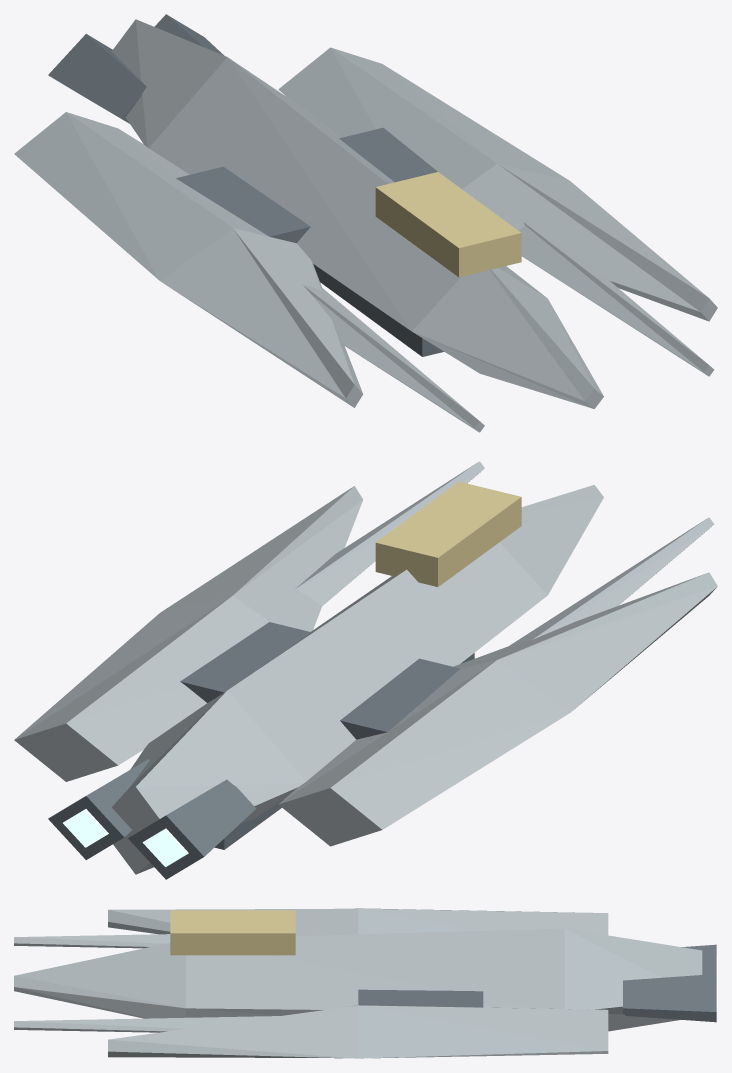
The picture shows the model from 3 angles, top to bottom: view 1: azimuth 30°, elevation 25°; view 2: azimuth 150°, elevation 25°; view 3: azimuth 270°, elevation 25°; orthographic projection. The views are drawn at different scales.
Size of the model in its own units: 2.43 by 0.8798 by 4.82.
